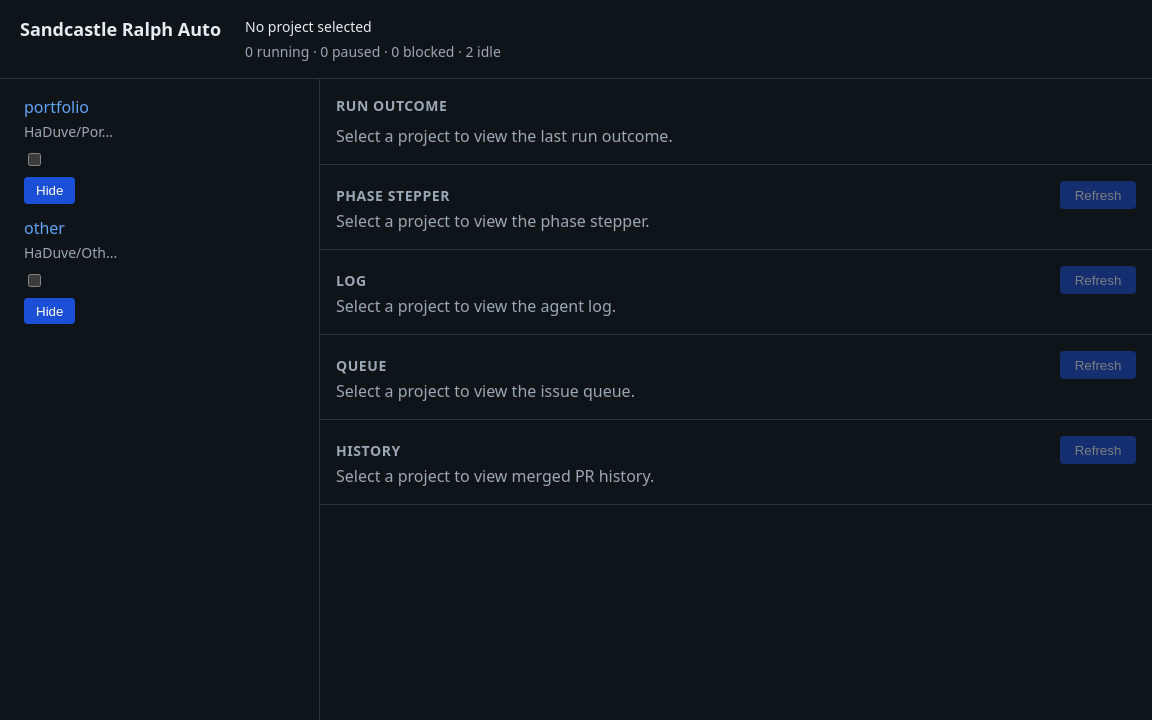
Test: App › hides a project client-side without mutating the projects API
Expected: the checkbox named "portfolio" is shown, [28,153,41,166]
Click the button with aria-label "hide portfolio".
click(50, 190)  # box [24,177,75,204]
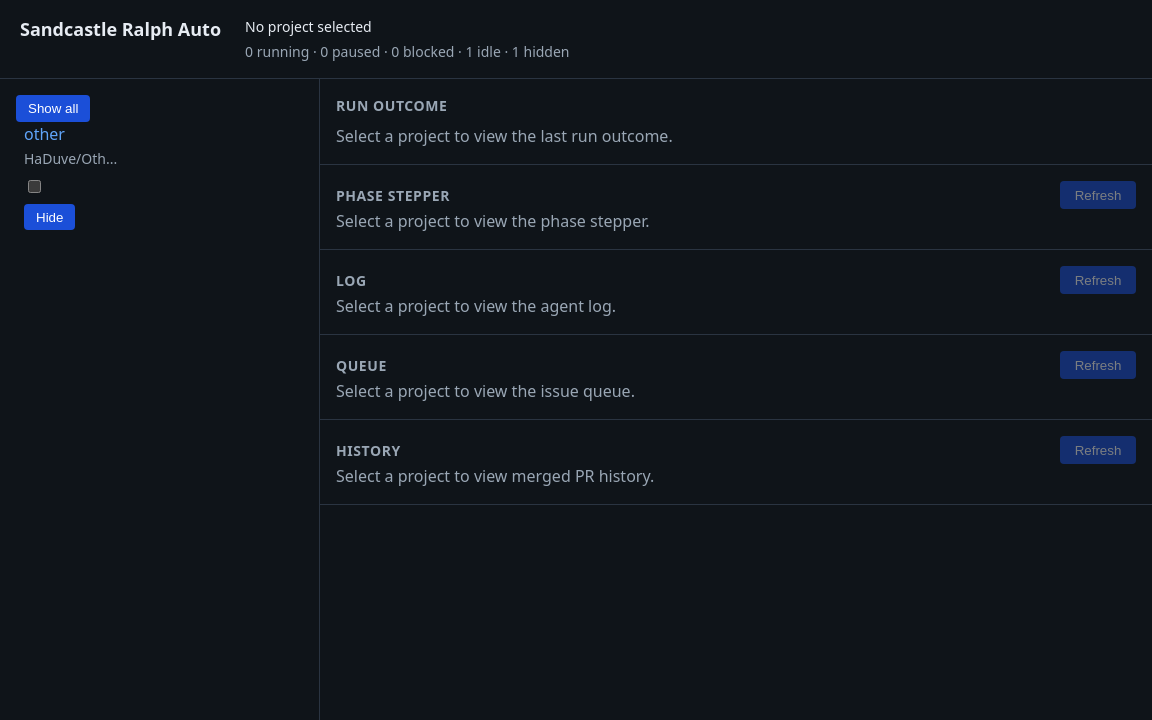
Expected: the checkbox named "other" is shown, [28,180,41,193]
Now the link "portfolio" is gone
